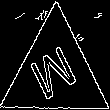M_SE: (27, 40, 84, 106)
